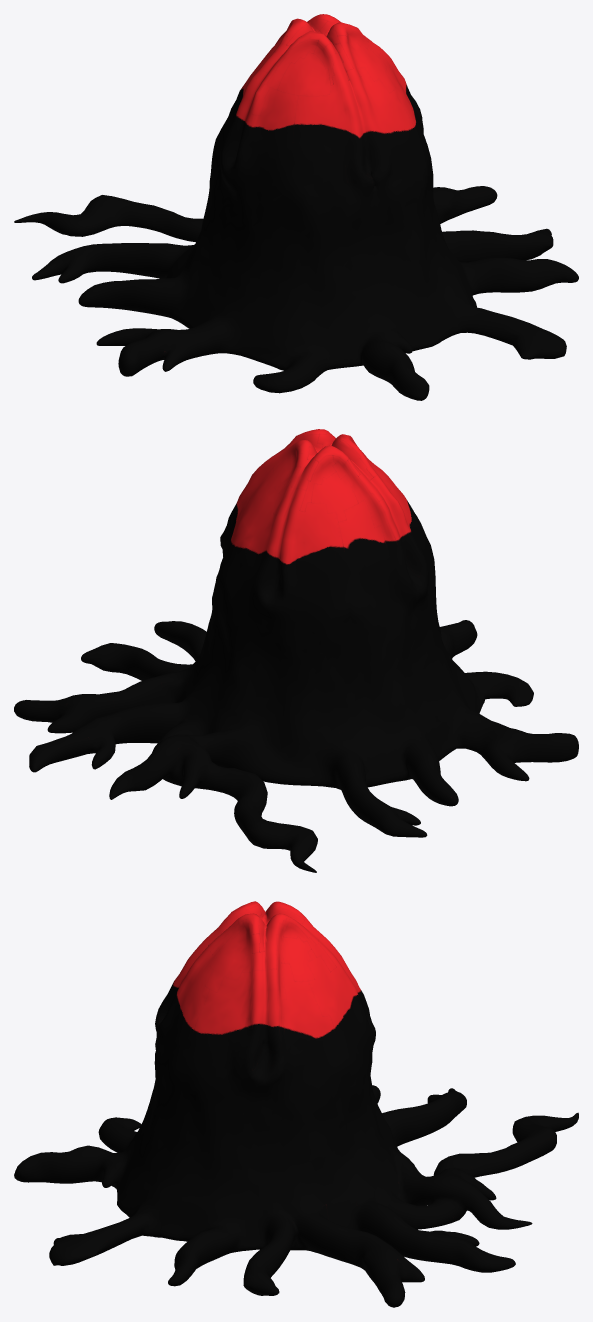
Rendered from alian eg_maskEdit.fbx.
The picture shows the model from 3 angles, top to bottom: view 1: azimuth 30°, elevation 25°; view 2: azimuth 150°, elevation 25°; view 3: azimuth 270°, elevation 25°; orthographic projection.
Visible parts, largest first — view 1: node_id3; view 2: node_id3; view 3: node_id3.
Part boxes in pixels (box(x1,y1,x2,y2)): node_id3: box(14, 14, 578, 400); node_id3: box(14, 429, 578, 872); node_id3: box(14, 901, 578, 1307).
Bounding box in the file's own units: 0.512 × 0.3062 × 0.5388.
1 material, 1 textured.
